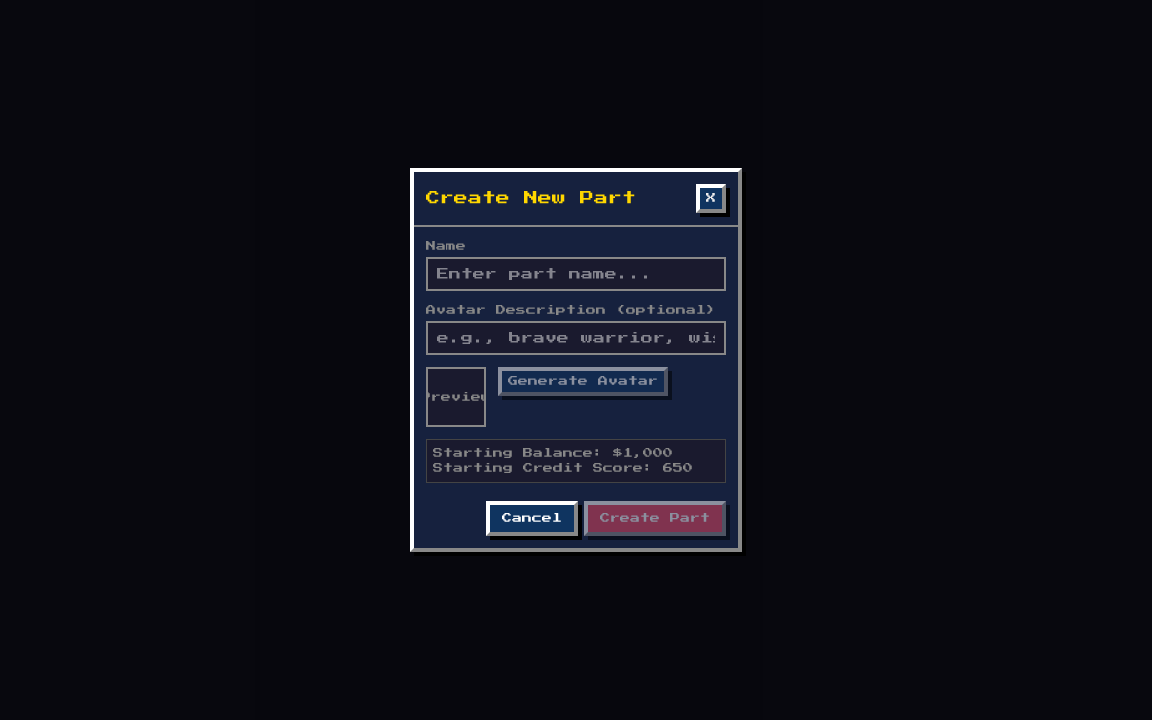
it: New Part Flow › CreatePartModal functionality › Create Part button should be enabled when name is entered
This screenshot has width=1152, height=720.
Type "Test Part" into the field with placeholder "Enter part name..." at (576, 274), box 426,257 -> 726,291
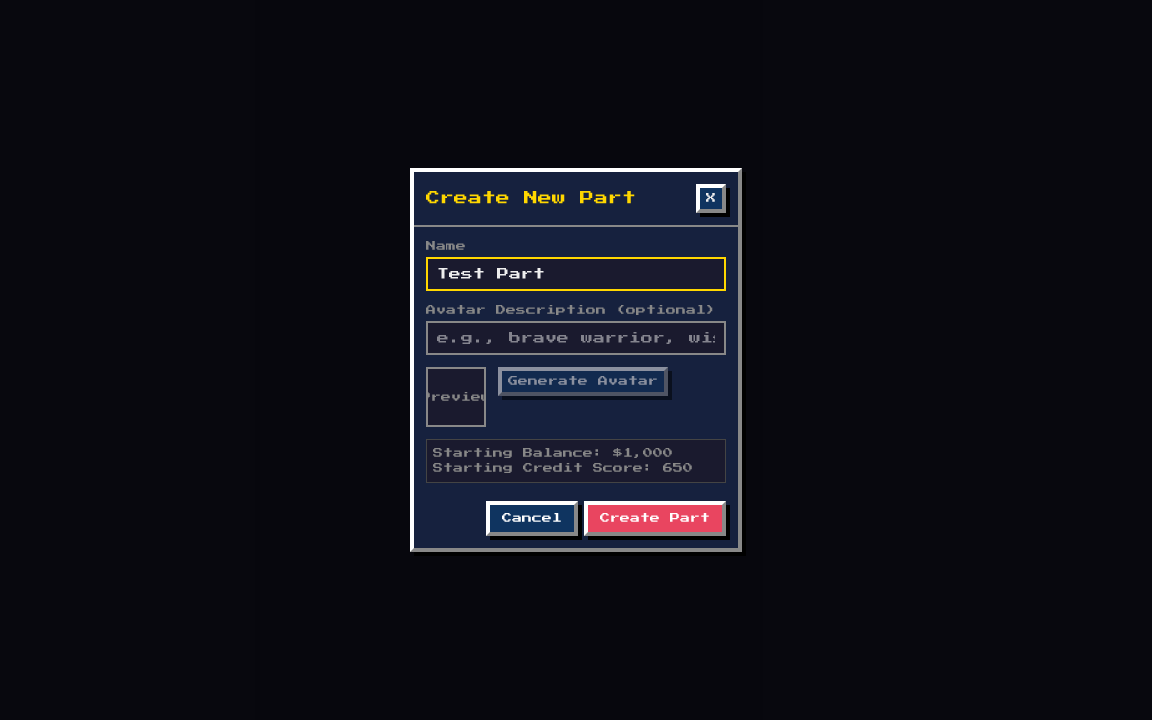
Expected: the button "Create Part" is enabled, 584,501 -> 726,536
